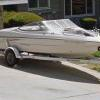Boat: (1, 9, 100, 62)
